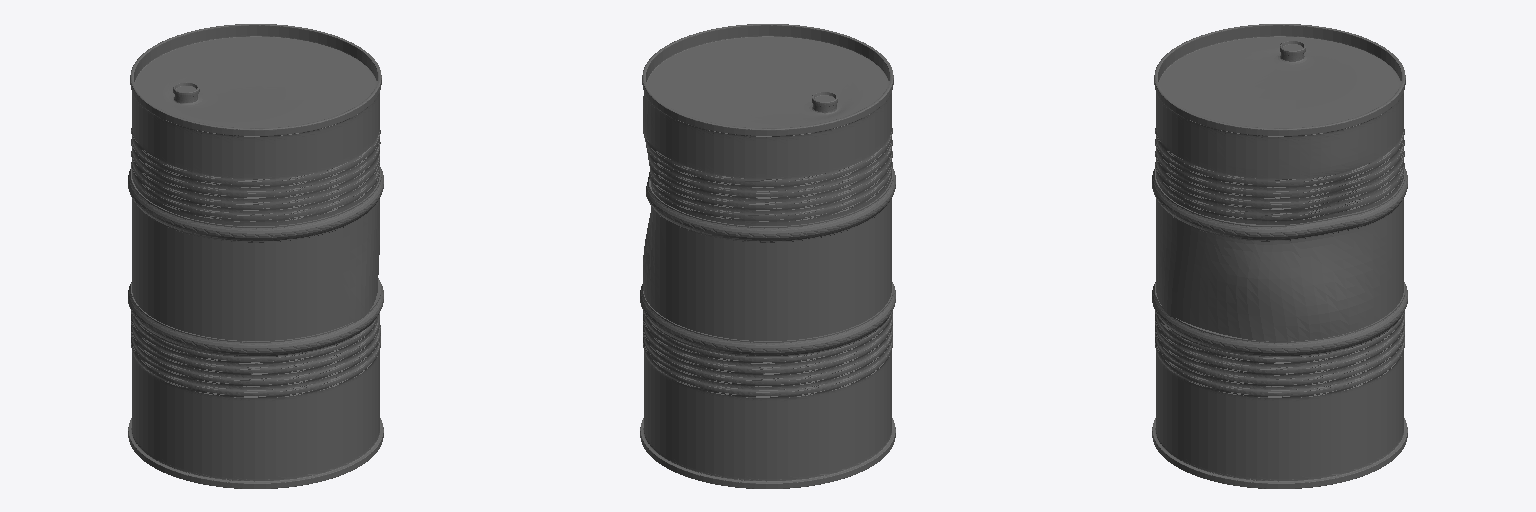
The model's file is barrel.obj.
3 renders of one model, left to right at view 1: azimuth 30°, elevation 25°; view 2: azimuth 150°, elevation 25°; view 3: azimuth 270°, elevation 25°, orthographic.
Visible parts, largest first — view 1: Cylinder001, Tube003, Tube004; view 2: Cylinder001, Tube004, Tube003; view 3: Cylinder001, Tube003, Tube004.
Boxes of the visible parts, <box> form: Cylinder001: <box>128,24,383,488</box>; Tube003: <box>128,167,383,242</box>; Tube004: <box>128,278,383,356</box>; Cylinder001: <box>640,24,895,488</box>; Tube004: <box>640,282,895,356</box>; Tube003: <box>646,168,895,242</box>; Cylinder001: <box>1152,24,1407,488</box>; Tube003: <box>1152,169,1407,241</box>; Tube004: <box>1152,282,1407,356</box>.
Bounding box in the file's own units: 613 × 946 × 613.